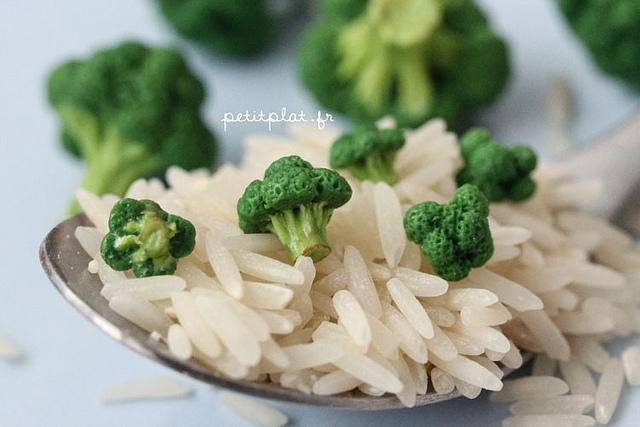broccoli: (48, 41, 217, 218), (297, 0, 509, 139), (236, 155, 352, 264), (404, 185, 494, 282), (556, 0, 640, 97), (100, 197, 196, 278), (159, 0, 280, 58), (453, 126, 539, 204), (329, 122, 406, 187)
